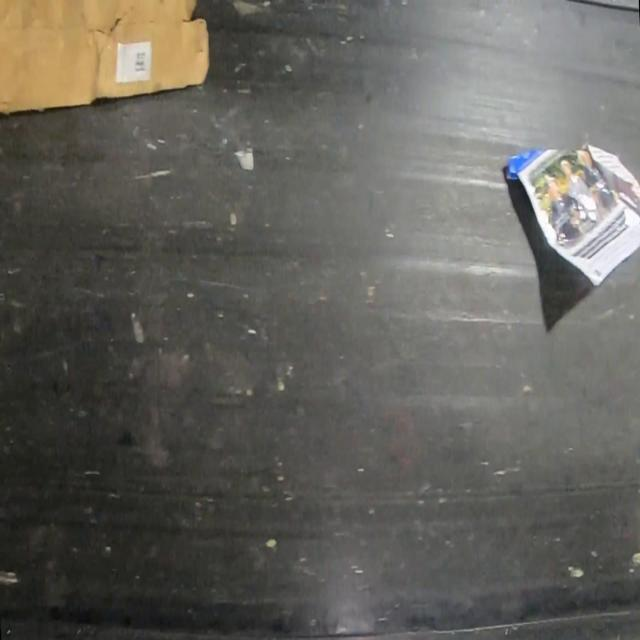cardboard: (0, 0, 210, 112)
